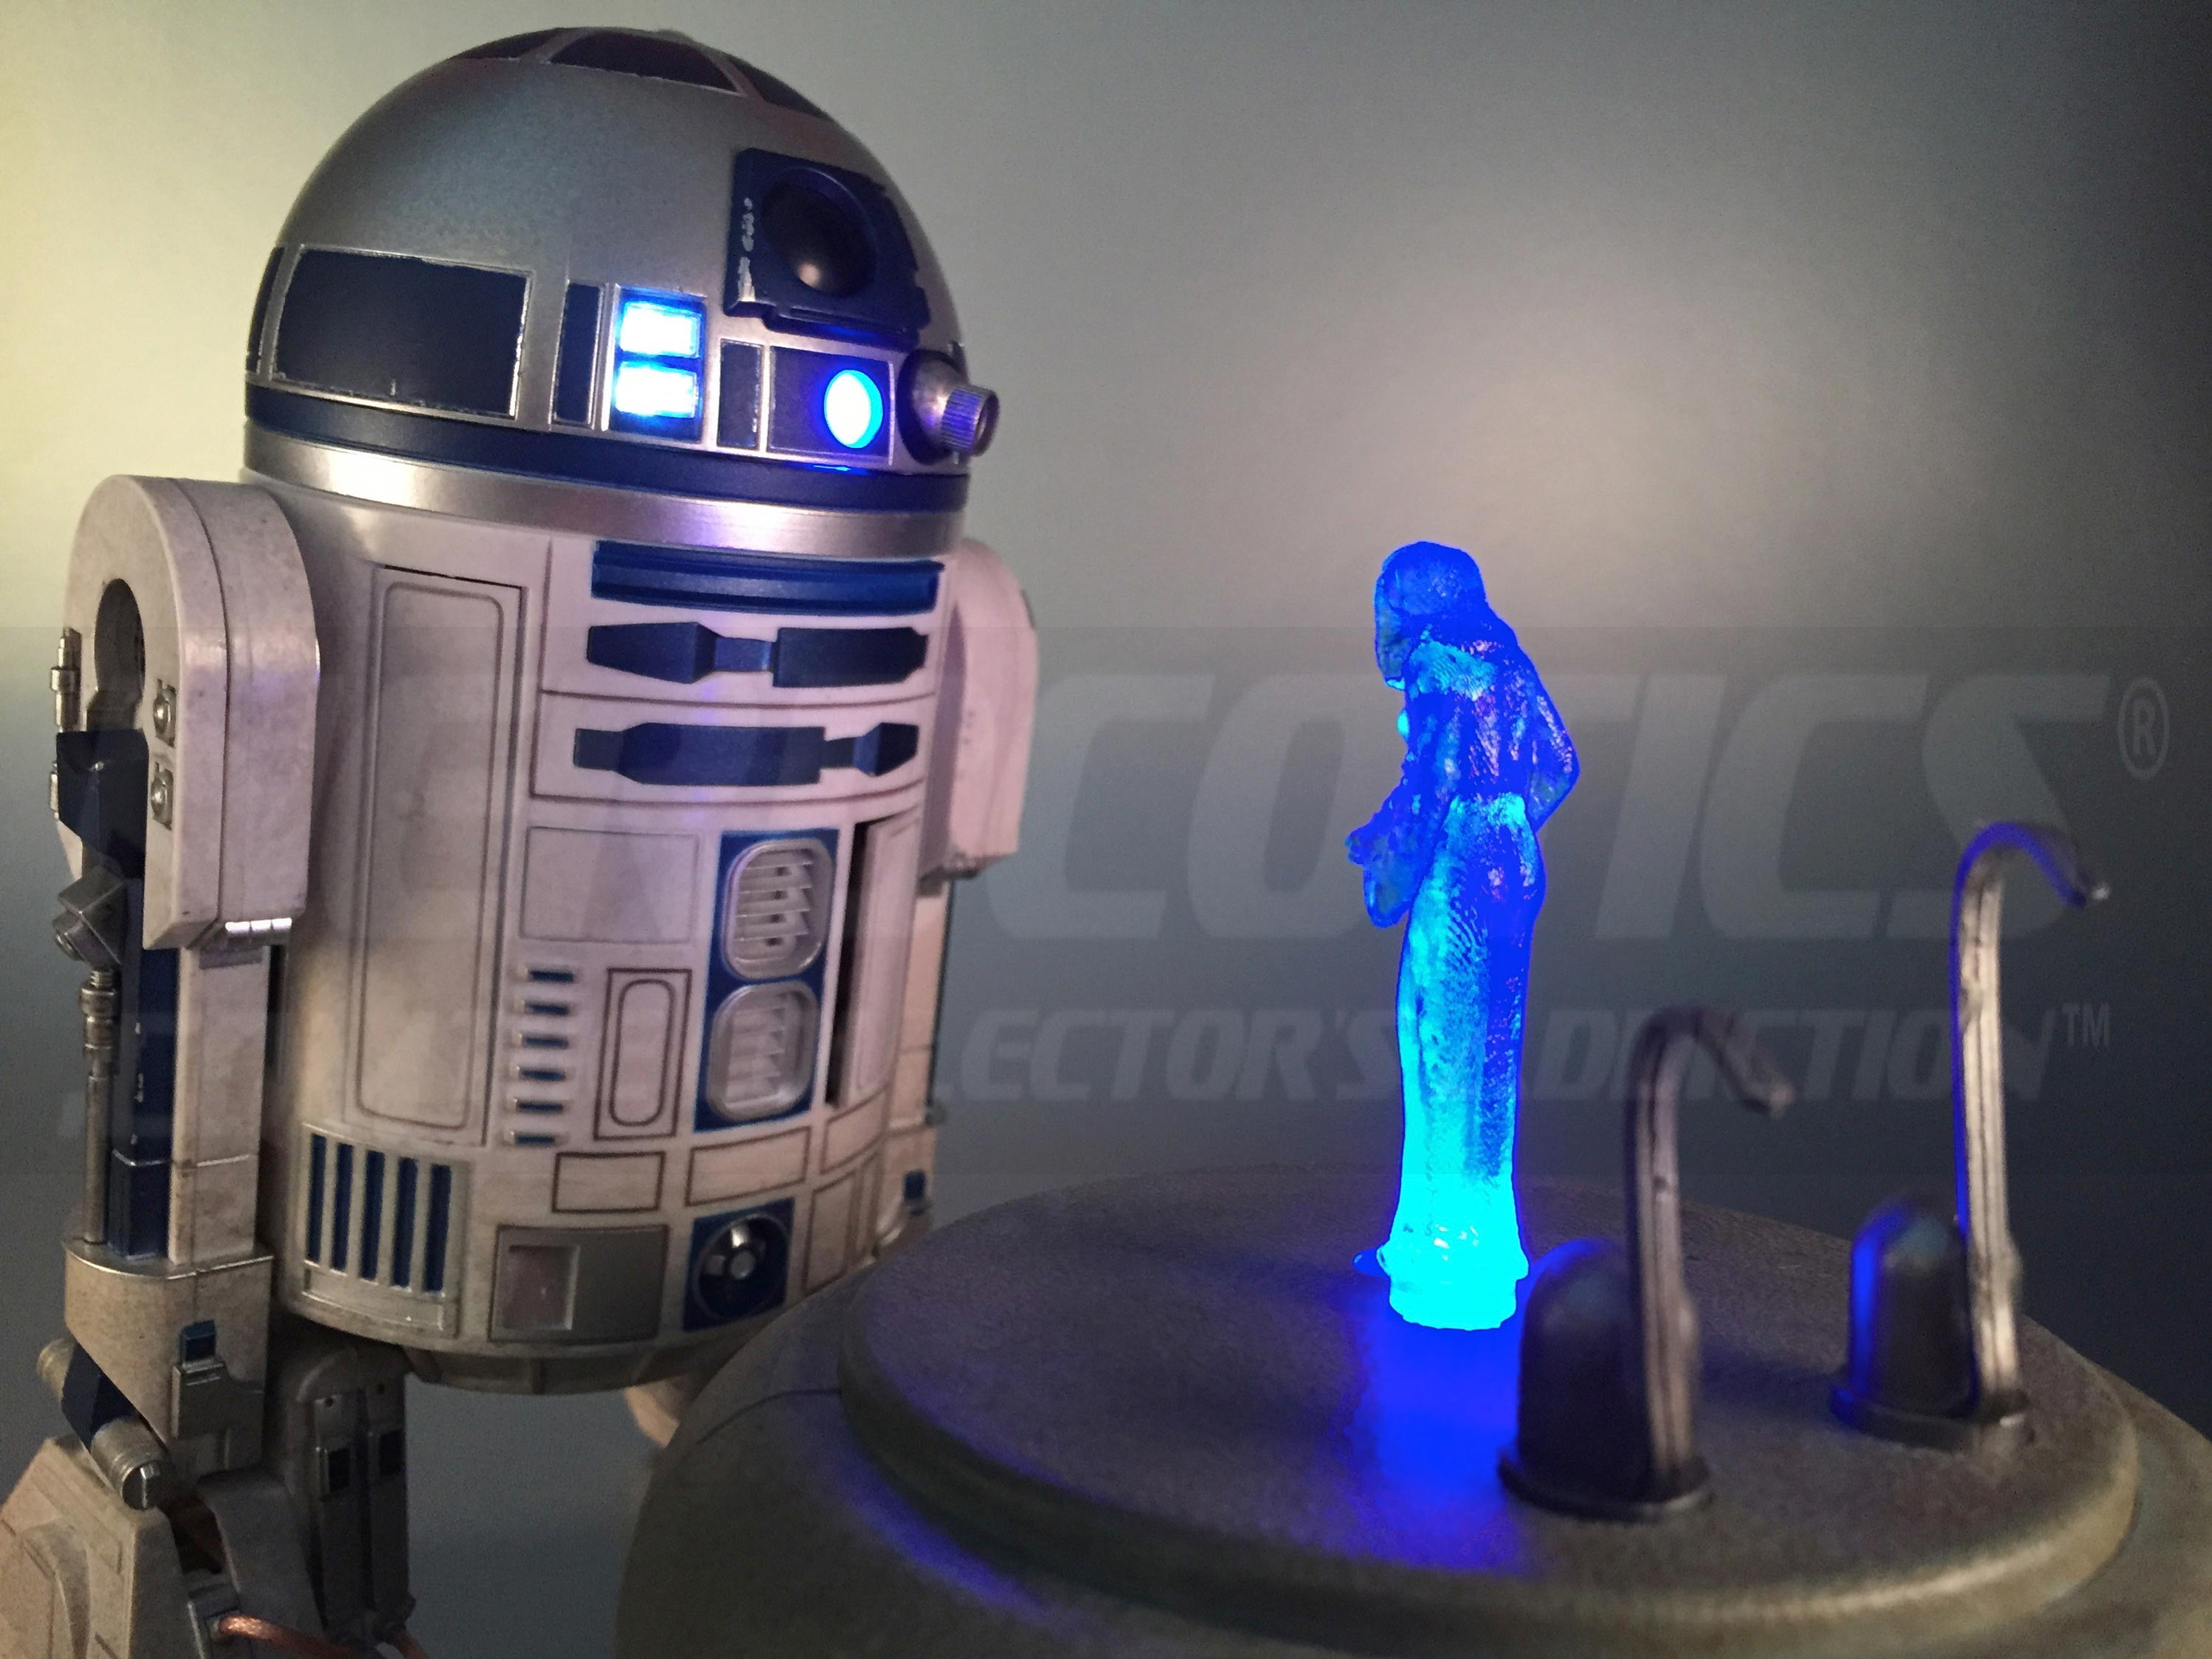r2d2: (9, 23, 1036, 1642)
